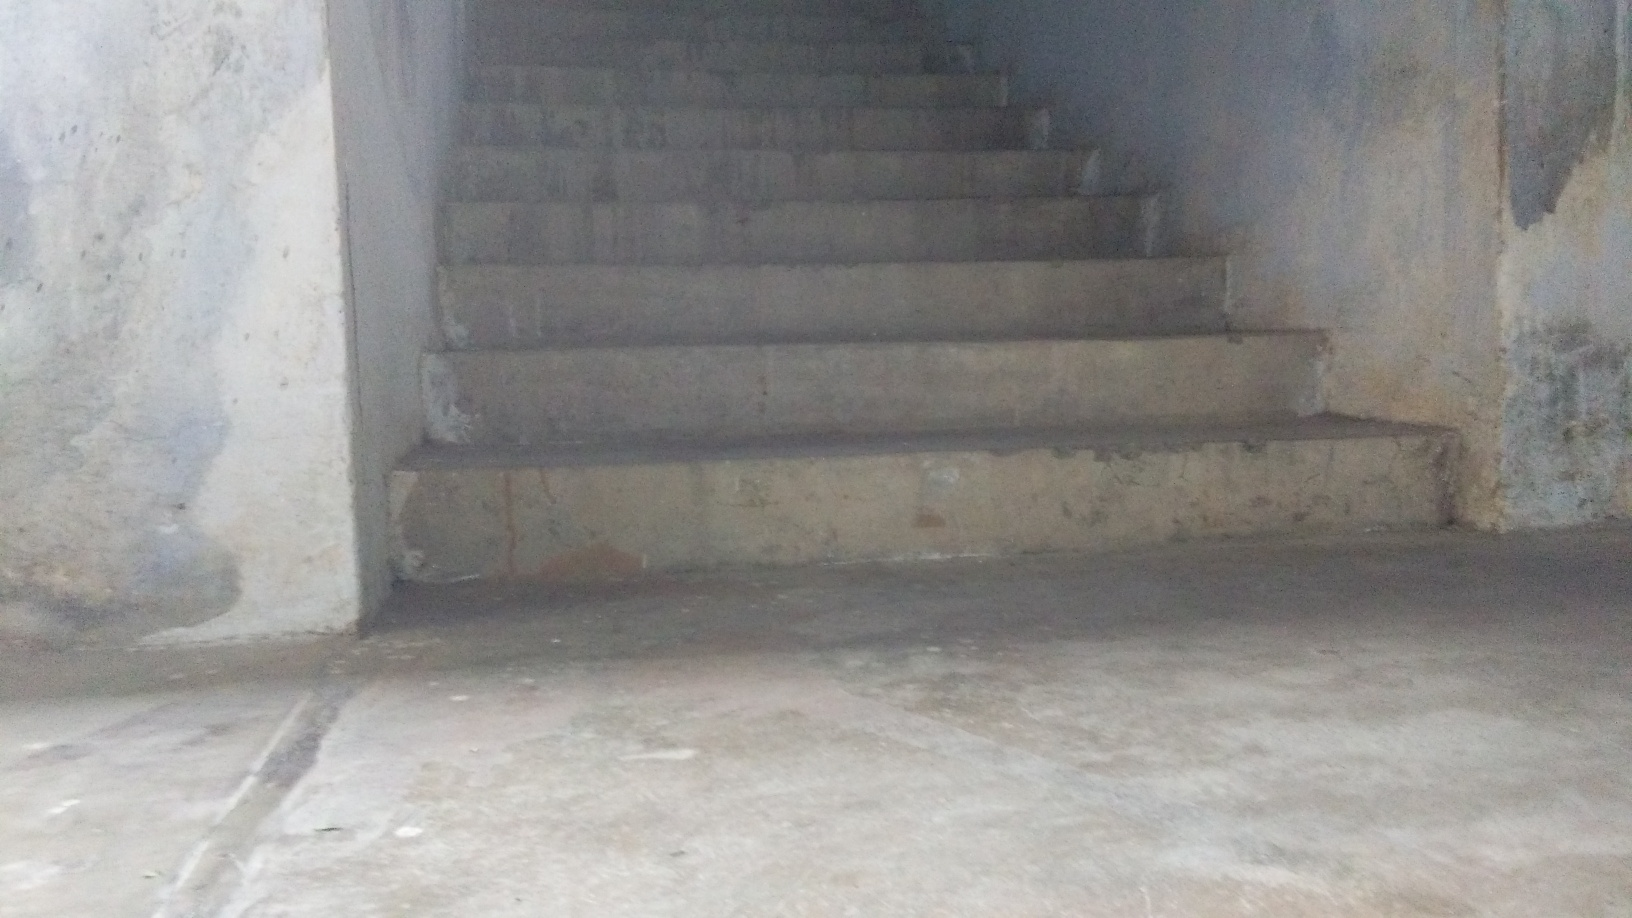stairs_up: (406, 27, 1432, 585)
